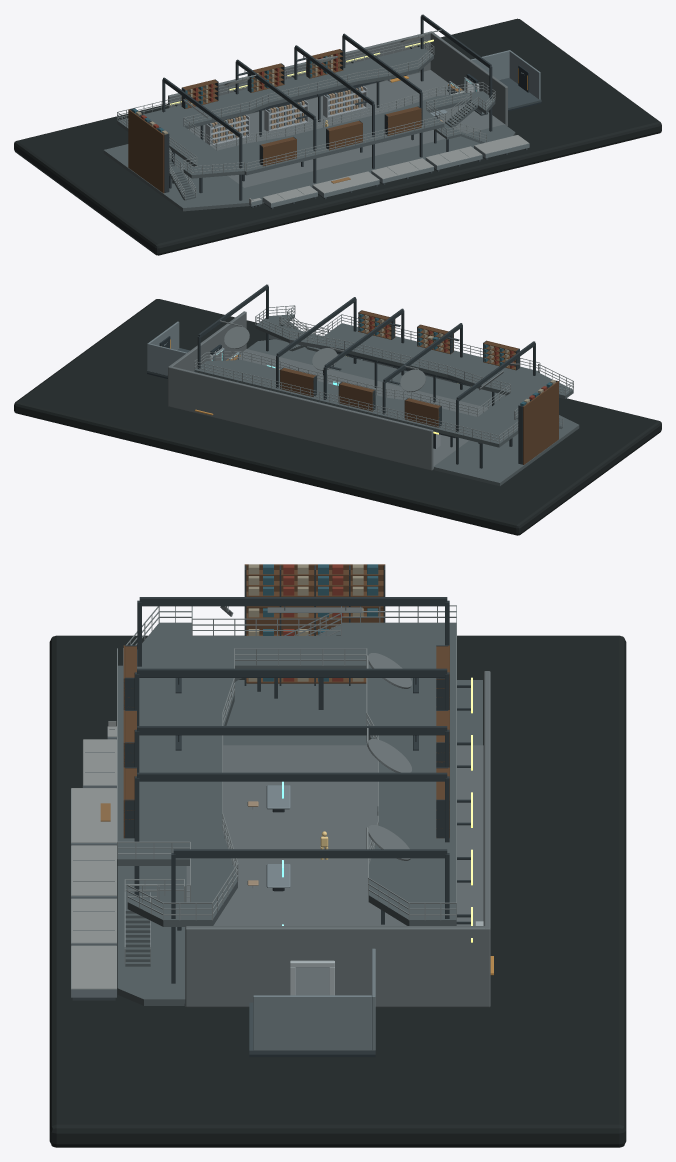
File: flagship-p26-p27-archive.glb
3 views of the same model, one above another, from view 1: azimuth 30°, elevation 25°; view 2: azimuth 150°, elevation 25°; view 3: azimuth 270°, elevation 25° (orthographic). The views are drawn at different scales.
Visible parts, largest first — view 1: Archive bay structural deck, Archive occupied deck 36 x 18 metres, ARCH18A_upper_north_gallery, ARCH18A_upper_south_gallery, ARCH18A_lower_south_deck, ARCH18A_lower_west_deck, ARCH18A_upper_west_connector, Archive end bulkhead, ARCH18A_west_archive_wall_back, Archive inboard wall, ARCH16 / reserved end bulkhead, ARCH18A_south_upper_rack_2_back (+15 smaller); view 2: Archive bay structural deck, Archive inboard wall, ARCH18A_upper_south_gallery, Archive occupied deck 36 x 18 metres, ARCH18A_upper_north_gallery, ARCH18A_lower_west_deck, ARCH18A_lower_south_deck, ARCH18A_upper_west_connector, ARCH18A_west_archive_wall_back, Archive end bulkhead, ARCH16 / inboard side wall, ARCH18A_north_upper_rack_0_back (+11 smaller); view 3: Archive bay structural deck, Archive occupied deck 36 x 18 metres, Archive end bulkhead, ARCH18A_upper_south_gallery, ARCH18A_upper_north_gallery, ARCH18A_upper_west_connector, ARCH18A_lower_west_deck, ARCH16 / reserved end bulkhead, ARCH18A_lower_south_deck, ARCH18A_high_rib_01, ARCH18A_high_rib_03, ARCH18A_high_rib_02 (+12 smaller).
Boxes of the visible parts, bbox=[...] form: Archive bay structural deck: bbox=[14, 18, 661, 255]; Archive occupied deck 36 x 18 metres: bbox=[188, 70, 507, 187]; ARCH18A_upper_north_gallery: bbox=[164, 47, 433, 128]; ARCH18A_upper_south_gallery: bbox=[217, 91, 495, 175]; ARCH18A_lower_south_deck: bbox=[244, 125, 515, 203]; ARCH18A_lower_west_deck: bbox=[103, 144, 256, 211]; ARCH18A_upper_west_connector: bbox=[117, 110, 244, 178]; Archive end bulkhead: bbox=[430, 31, 507, 124]; ARCH18A_west_archive_wall_back: bbox=[128, 109, 164, 193]; Archive inboard wall: bbox=[168, 31, 431, 128]; ARCH16 / reserved end bulkhead: bbox=[509, 50, 540, 99]; ARCH18A_south_upper_rack_2_back: bbox=[387, 108, 421, 135]; Archive bay structural deck: bbox=[14, 299, 661, 535]; Archive inboard wall: bbox=[168, 366, 433, 468]; ARCH18A_upper_south_gallery: bbox=[255, 314, 539, 395]; Archive occupied deck 36 x 18 metres: bbox=[168, 349, 489, 470]; ARCH18A_upper_north_gallery: bbox=[194, 360, 476, 436]; ARCH18A_lower_west_deck: bbox=[434, 415, 579, 486]; ARCH18A_lower_south_deck: bbox=[248, 339, 506, 407]; ARCH18A_upper_west_connector: bbox=[455, 372, 573, 447]; ARCH18A_west_archive_wall_back: bbox=[523, 381, 558, 464]; Archive end bulkhead: bbox=[168, 311, 246, 404]; ARCH16 / inboard side wall: bbox=[147, 343, 186, 375]; ARCH18A_north_upper_rack_0_back: bbox=[404, 400, 438, 427]; Archive bay structural deck: bbox=[49, 635, 626, 1147]; Archive occupied deck 36 x 18 metres: bbox=[185, 745, 490, 1007]; Archive end bulkhead: bbox=[185, 926, 490, 1003]; ARCH18A_upper_south_gallery: bbox=[117, 665, 237, 926]; ARCH18A_upper_north_gallery: bbox=[367, 665, 456, 925]; ARCH18A_upper_west_connector: bbox=[137, 622, 456, 668]; ARCH18A_lower_west_deck: bbox=[223, 680, 482, 744]; ARCH16 / reserved end bulkhead: bbox=[253, 995, 371, 1050]; ARCH18A_lower_south_deck: bbox=[117, 866, 184, 1005]; ARCH18A_high_rib_01: bbox=[137, 668, 447, 677]; ARCH18A_high_rib_03: bbox=[137, 772, 447, 781]; ARCH18A_high_rib_02: bbox=[137, 726, 447, 735].
Bounding box in the file's own units: 69 × 10.55 × 34.
